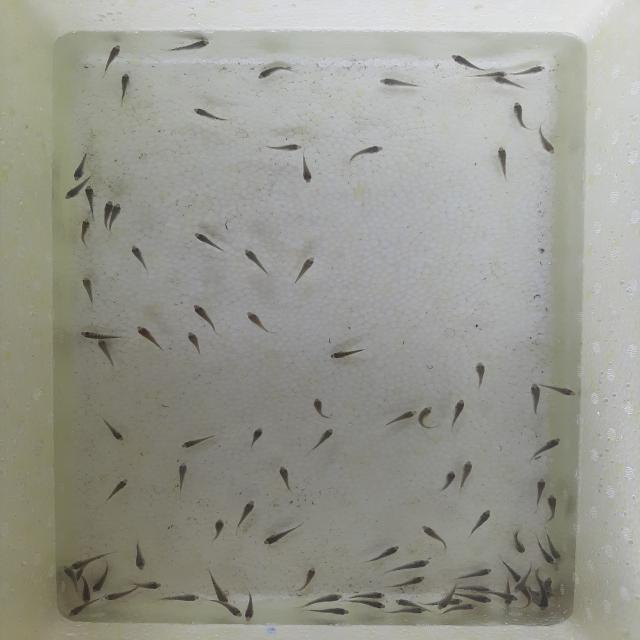fingerling: (288, 251, 321, 290), (526, 434, 563, 466), (344, 142, 389, 168), (230, 496, 260, 535), (238, 245, 272, 279), (100, 474, 134, 506), (260, 522, 303, 547), (133, 322, 166, 354), (304, 426, 337, 458), (126, 240, 156, 274), (465, 507, 495, 541), (242, 308, 277, 337), (187, 104, 235, 125), (489, 141, 513, 183), (506, 96, 532, 134), (324, 343, 370, 364), (374, 73, 424, 92), (380, 407, 418, 432), (166, 36, 213, 56), (532, 120, 558, 156), (444, 51, 490, 71), (190, 229, 226, 254), (189, 300, 219, 329), (446, 397, 469, 434), (77, 274, 101, 309), (180, 328, 208, 358), (419, 524, 449, 552), (274, 462, 301, 493), (242, 424, 268, 456), (296, 562, 322, 594), (256, 62, 295, 83), (98, 414, 126, 443), (97, 42, 124, 72), (294, 153, 318, 186), (172, 459, 194, 495), (387, 557, 436, 573), (95, 338, 118, 372), (417, 402, 443, 432), (178, 431, 219, 450), (306, 392, 331, 423), (68, 550, 105, 570), (451, 566, 495, 582), (525, 380, 543, 419), (544, 381, 579, 401), (130, 539, 151, 572), (365, 544, 401, 563), (162, 589, 202, 606), (457, 458, 476, 493), (390, 574, 430, 590), (115, 72, 134, 105), (490, 74, 526, 91), (259, 141, 306, 154), (67, 152, 87, 182), (304, 606, 354, 618), (438, 466, 458, 496), (104, 586, 138, 603), (544, 492, 561, 526), (472, 358, 489, 392), (77, 218, 95, 250), (209, 515, 228, 543), (508, 530, 528, 556), (511, 64, 549, 77), (532, 476, 547, 508), (84, 184, 97, 219), (77, 328, 122, 338), (307, 592, 344, 604), (91, 570, 109, 594), (349, 590, 390, 600), (60, 184, 82, 202), (244, 596, 258, 622), (388, 606, 427, 615), (64, 604, 87, 619), (140, 578, 166, 591), (352, 600, 387, 609), (80, 580, 91, 604), (225, 604, 243, 618), (392, 596, 413, 607), (472, 594, 493, 604), (473, 585, 492, 594), (102, 199, 114, 213), (112, 202, 124, 216), (436, 598, 448, 611), (512, 582, 524, 594), (538, 598, 548, 612), (553, 549, 564, 561), (503, 593, 519, 601), (543, 576, 554, 587), (449, 597, 464, 605), (463, 603, 477, 611), (543, 558, 555, 564)
